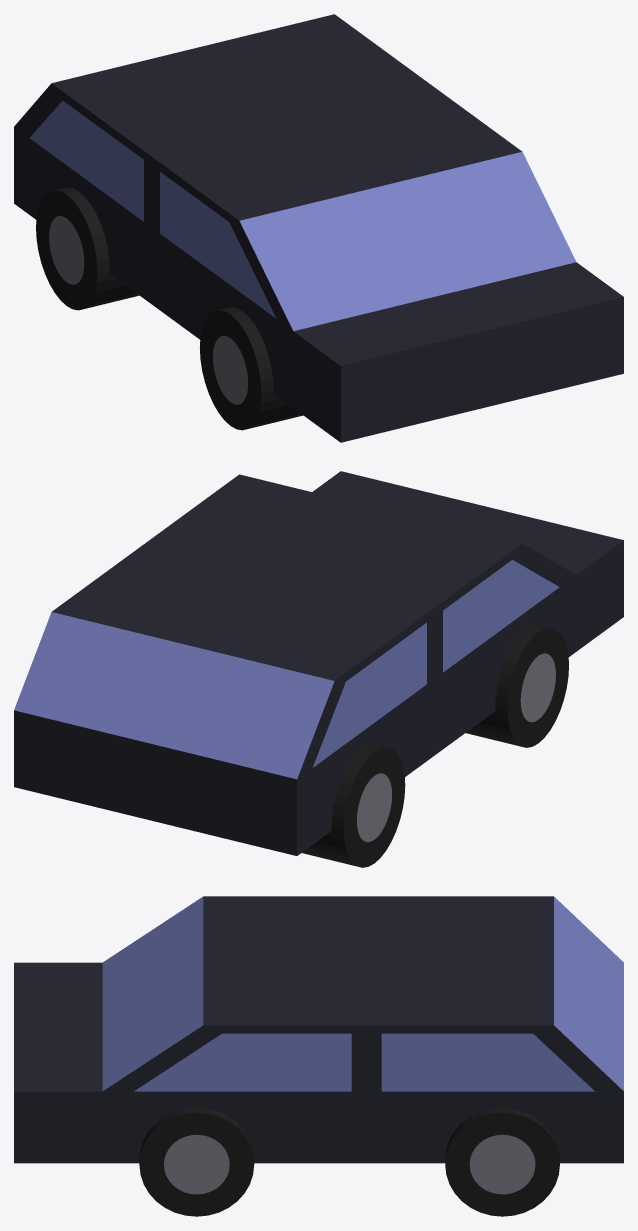
File: car.fbx
3 renders of one model, top to bottom at view 1: azimuth 30°, elevation 25°; view 2: azimuth 150°, elevation 25°; view 3: azimuth 270°, elevation 25°, orthographic. The views are drawn at different scales.
Parts seen in each view (by area): view 1: Cube; view 2: Cube; view 3: Cube.
Boxes of the visible parts, <box> form: Cube: <box>14,14,623,442</box>; Cube: <box>14,471,623,867</box>; Cube: <box>14,896,623,1216</box>.
Size of the model in its own units: 575 by 358 by 1062.
